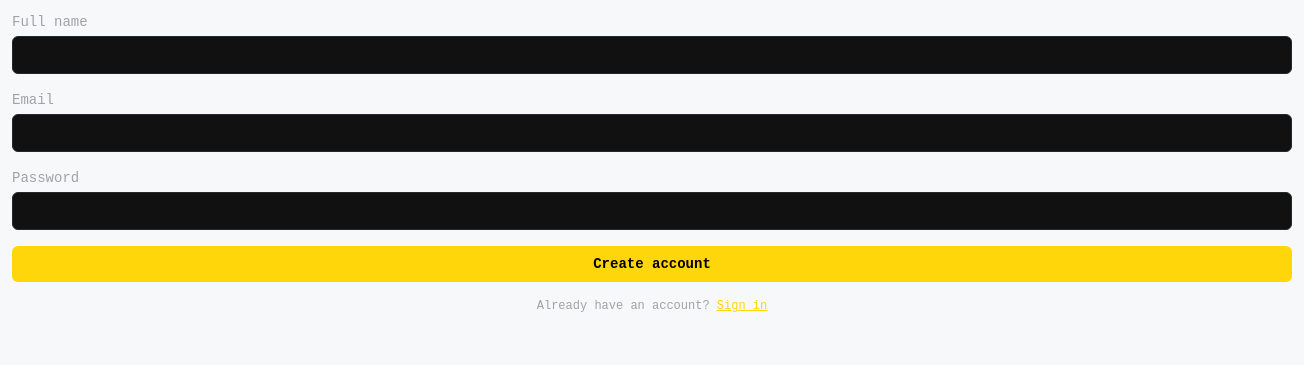
Test case: RegisterForm › shows Supabase sign-up errors and unlocks the form
The image size is (1304, 365).
Type "miguel@example.com" into the field labelled "Email" at (652, 133), box 12,114 -> 1292,152
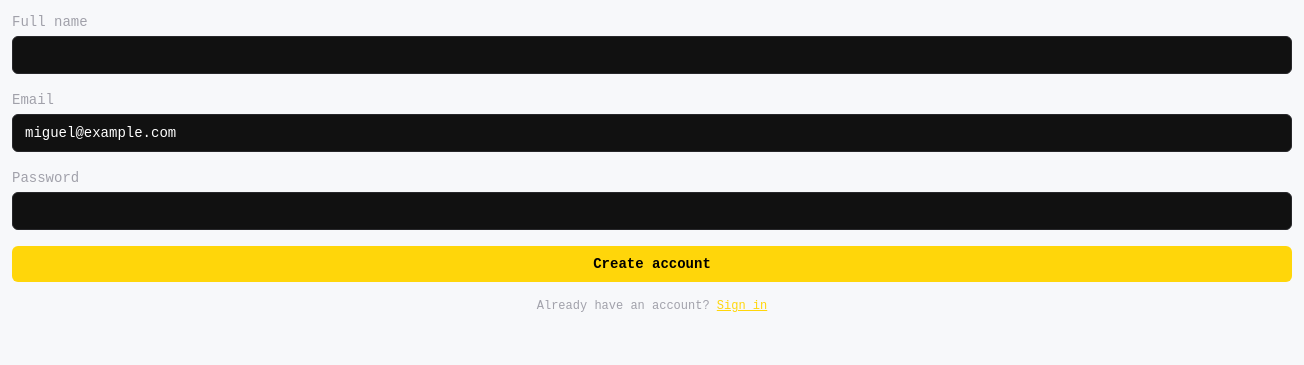
Type "password123" into the password field labelled "Password" at (652, 211), box 12,192 -> 1292,230
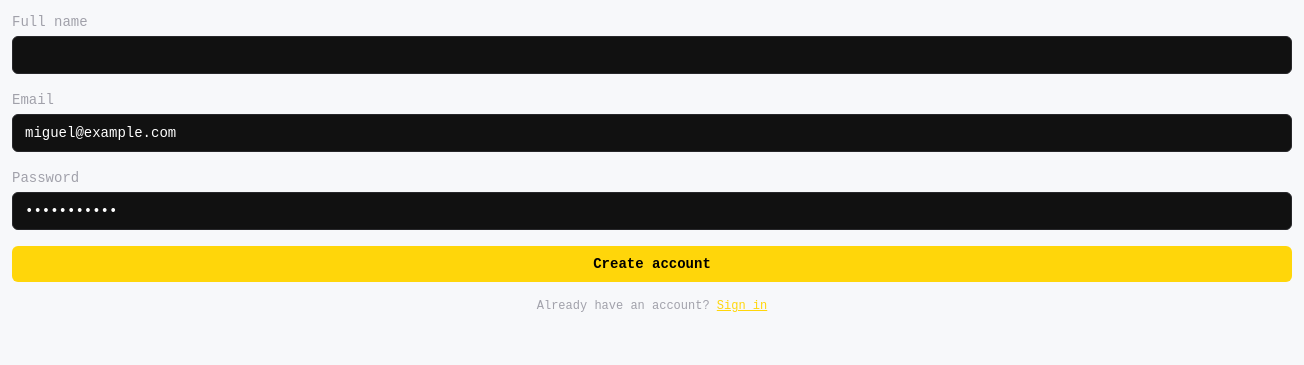
Submit the form from the button "Create account", box 12,246 -> 1292,282
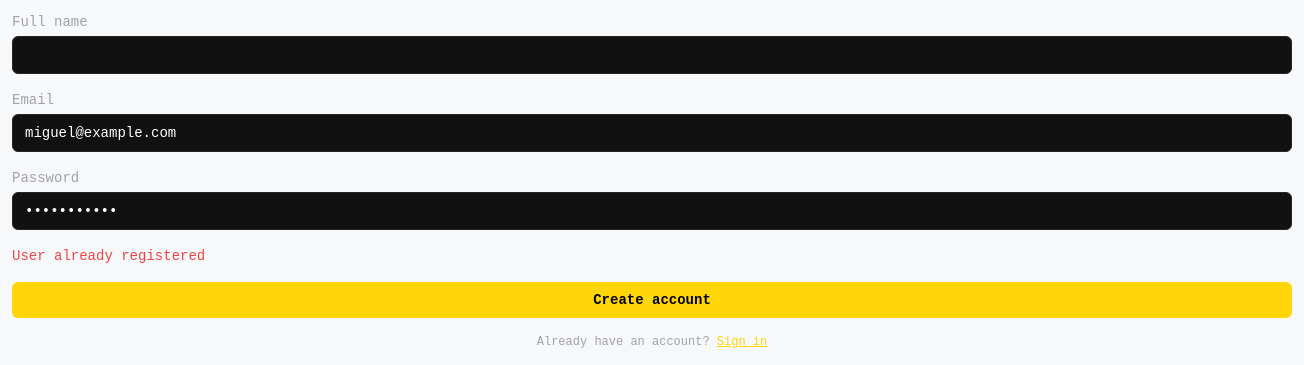
Check: the button "Create account" is enabled, box 12,282 -> 1292,318
Check: the text "User already registered" is shown, box 12,248 -> 205,264
